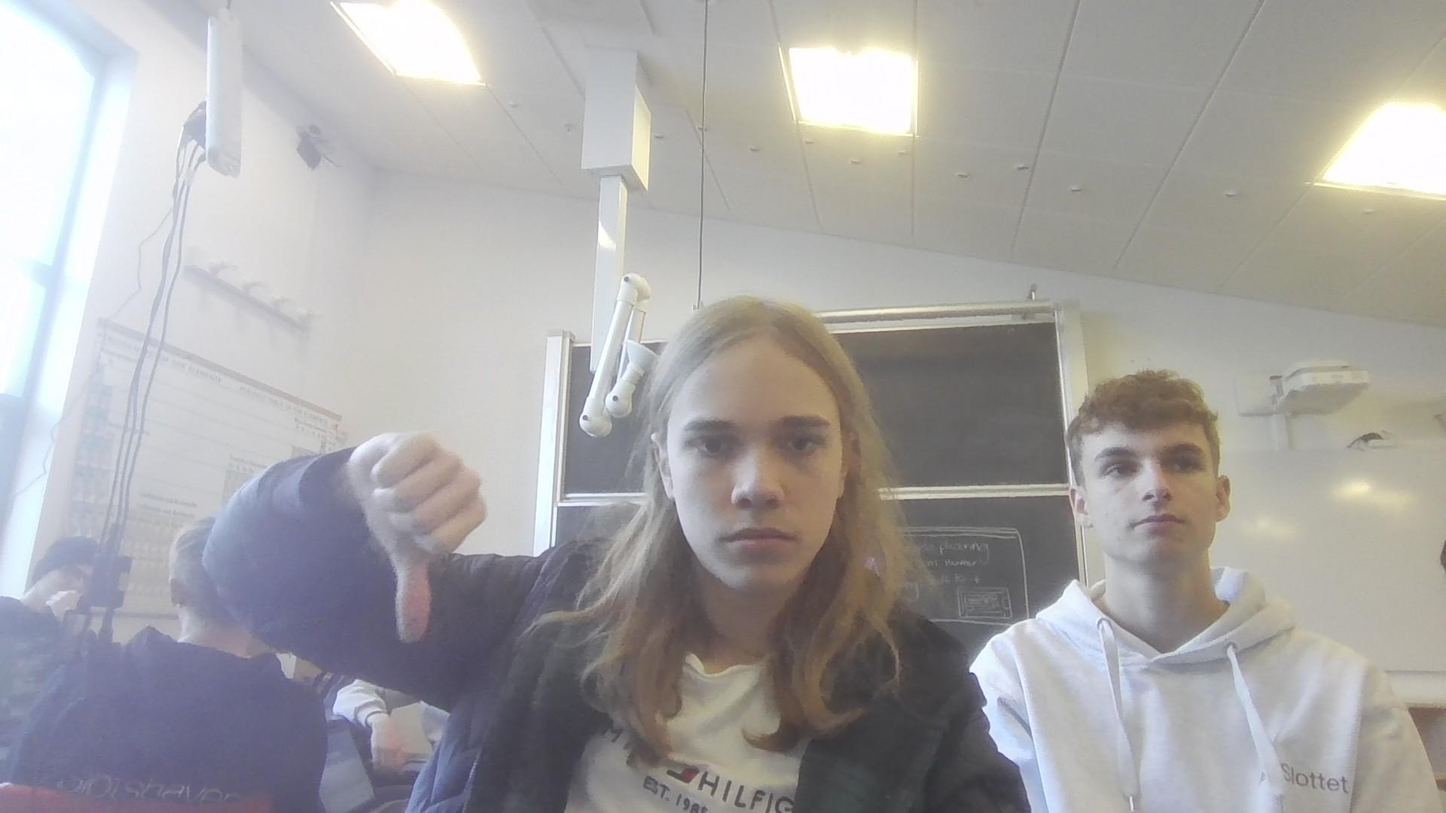thumbs down: (350, 428, 490, 651)
